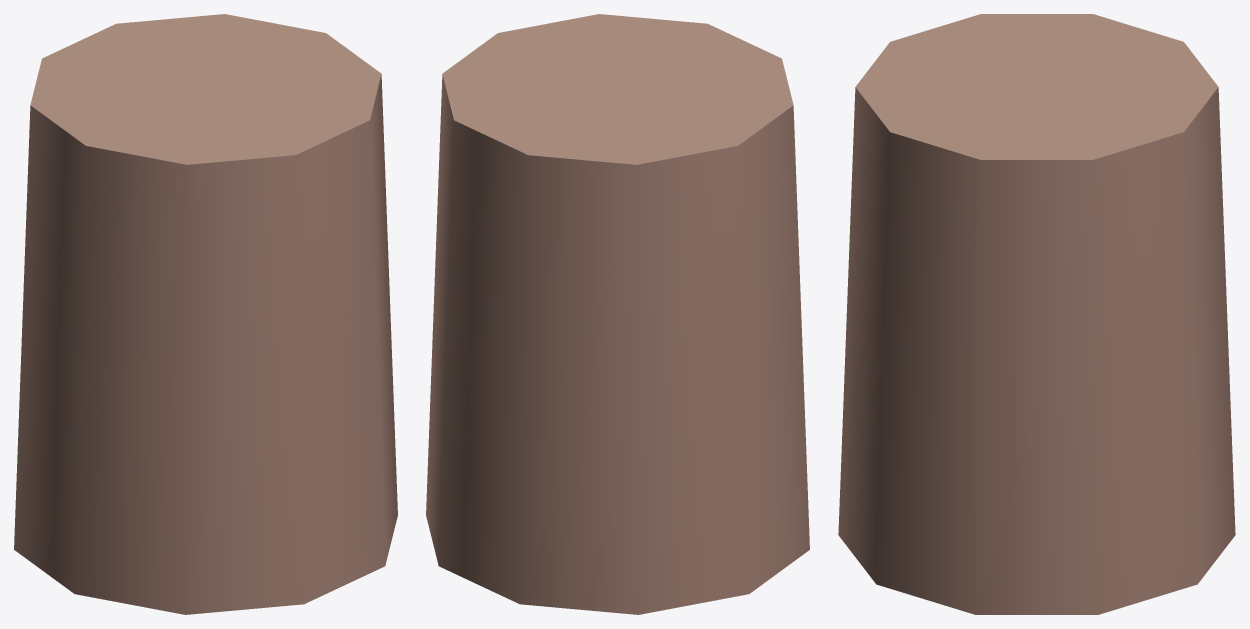
The model's file is stump_b.gltf.
The picture shows the model from 3 angles, left to right: view 1: azimuth 30°, elevation 25°; view 2: azimuth 150°, elevation 25°; view 3: azimuth 270°, elevation 25°; orthographic projection.
Parts seen in each view (by area): view 1: stump_b; view 2: stump_b; view 3: stump_b.
Part boxes in pixels (x1=…): stump_b: x1=14, y1=14, x2=397, y2=614; stump_b: x1=426, y1=14, x2=809, y2=614; stump_b: x1=838, y1=14, x2=1235, y2=614.
Size of the model in its own units: 0.1807 by 0.2366 by 0.19.
